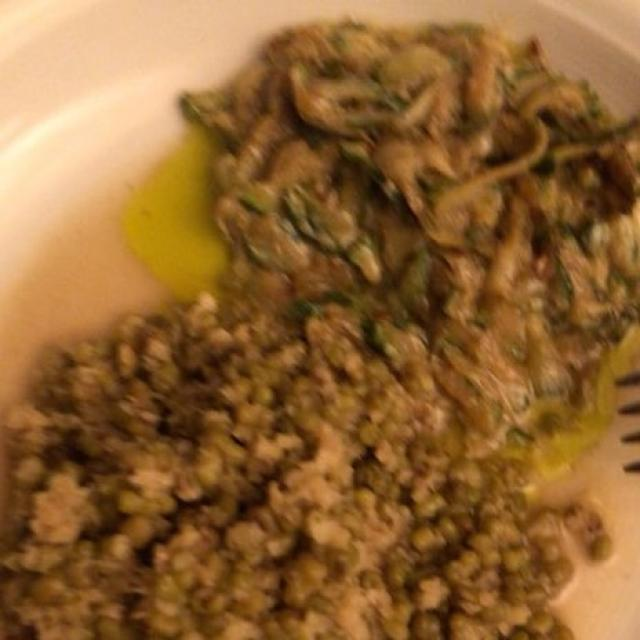zucchini: (188, 24, 617, 443)
